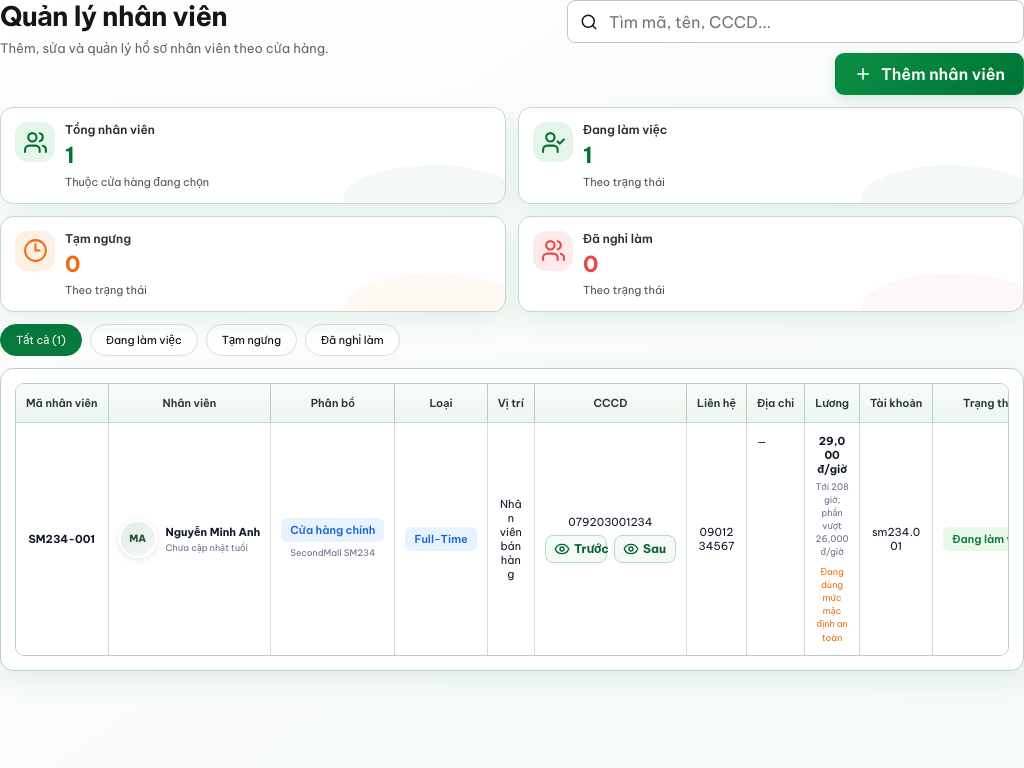
Test: business-support store workspace permissions › lets Business Support add, edit and delete store employees
Expected: the text "Nguyễn Minh Anh" is shown, [166,525,260,539]
Click the button "Thêm nhân viên": click(930, 74) [835,53,1023,95]
(page scrolled)
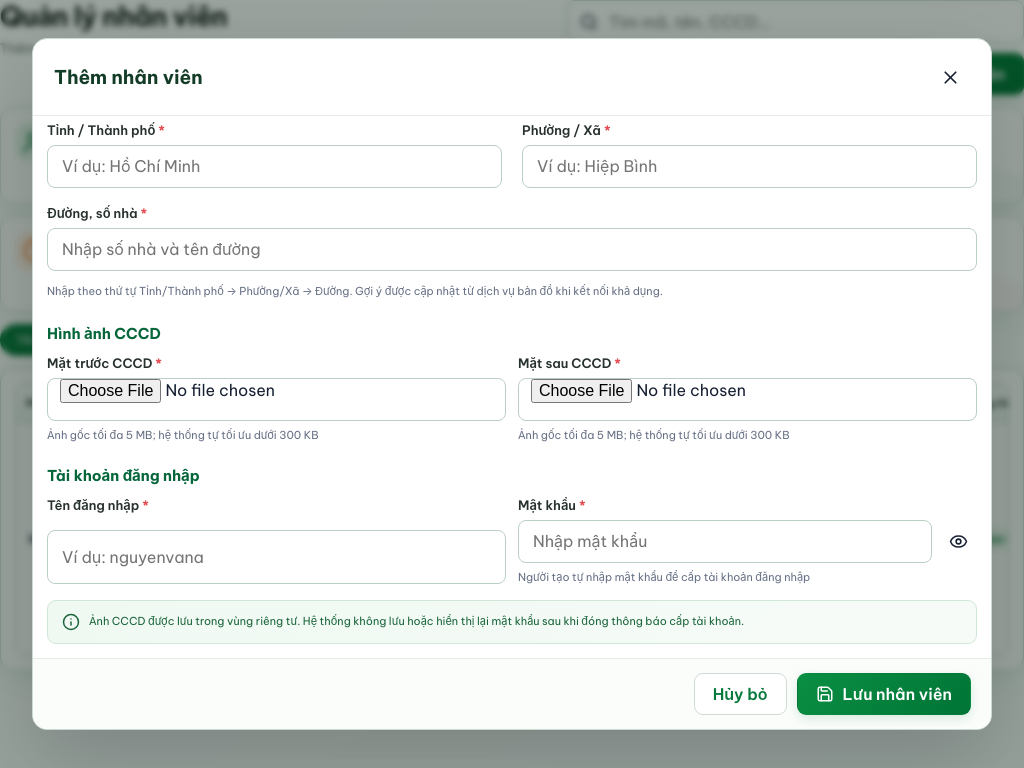
Now the dialog is shown
Now the file field labelled "Mặt trước CCCD" is shown, box [60,378,493,420]
Now the file field labelled "Mặt sau CCCD" is shown, box [531,378,964,420]
